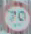Speed limit: (0, 0, 29, 30)
